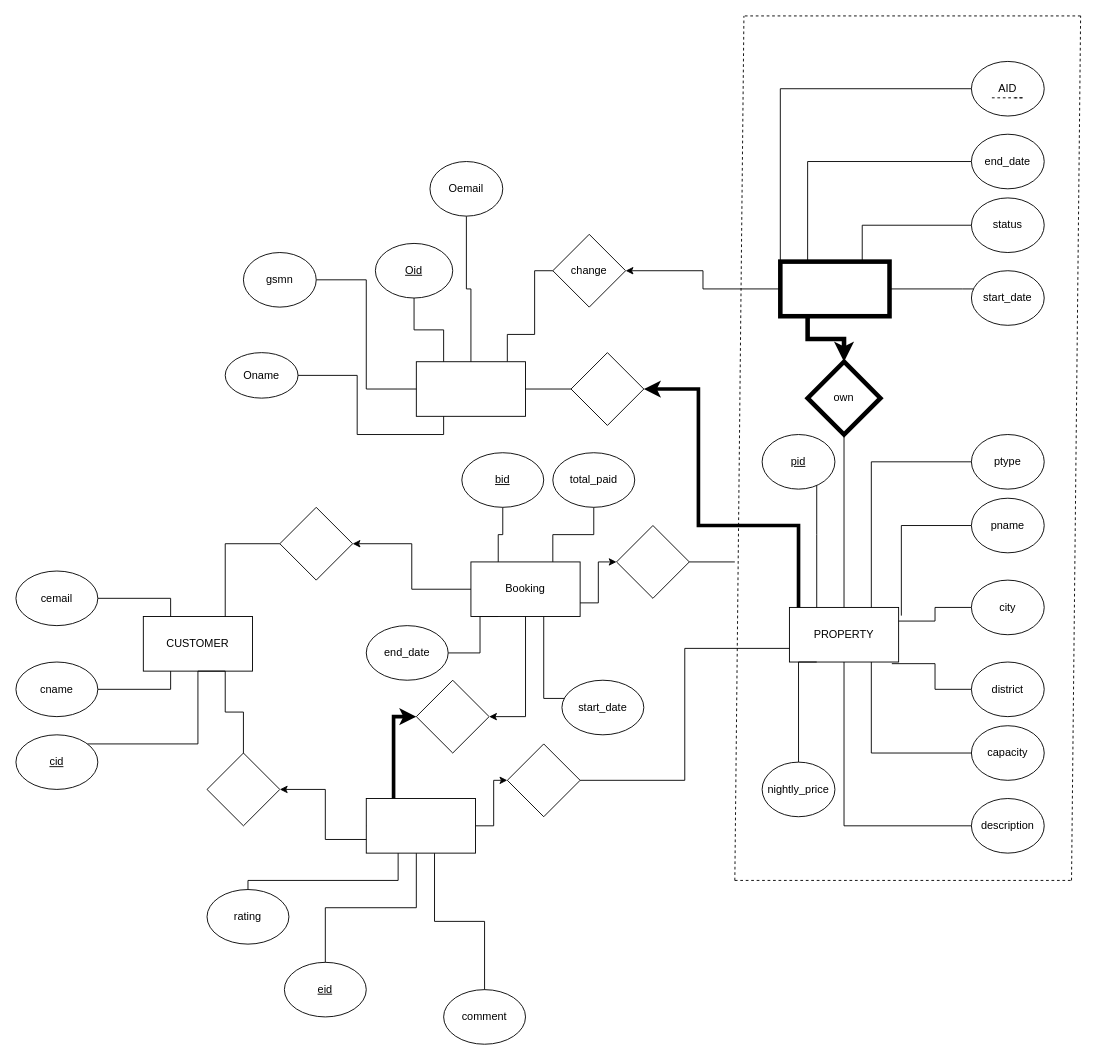
Some shapes in this 1097 by 1060 pixel diagram are drawn without their labels. Each missing label, with the centre of its shape:
"Availability" belongs at point (834, 288).
"booked" belongs at point (652, 561).
"Evaluation" belongs at point (420, 825).
"has" belongs at point (543, 780).
"make" belongs at point (243, 789).
"OWNER" belongs at point (470, 388).
"perform" belongs at point (316, 543).
"possess" belongs at point (607, 388).
"require" belongs at point (452, 716).
